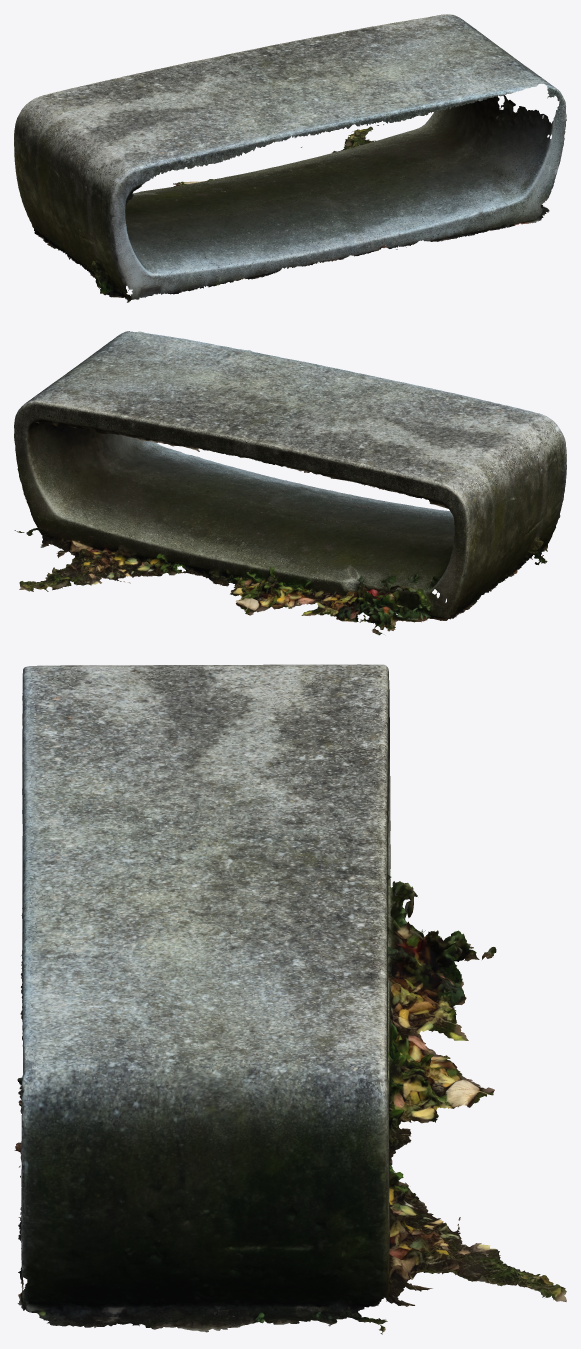
Rendered from bancofinalissimo.glb.
3 views of the same model, one above another, from view 1: azimuth 30°, elevation 25°; view 2: azimuth 150°, elevation 25°; view 3: azimuth 270°, elevation 25° (orthographic). The views are drawn at different scales.
Size of the model in its own units: 6.33 by 2.14 by 3.61.
Materials: 1 (1 with a texture image).
